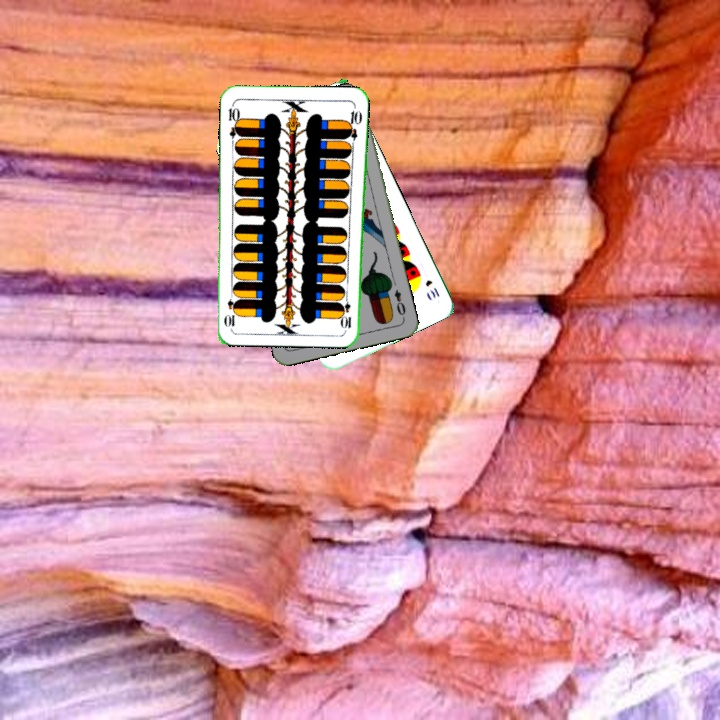E10: (224, 100, 243, 140), (340, 290, 354, 331)
EO: (390, 285, 408, 321)
S10: (421, 276, 442, 301)
